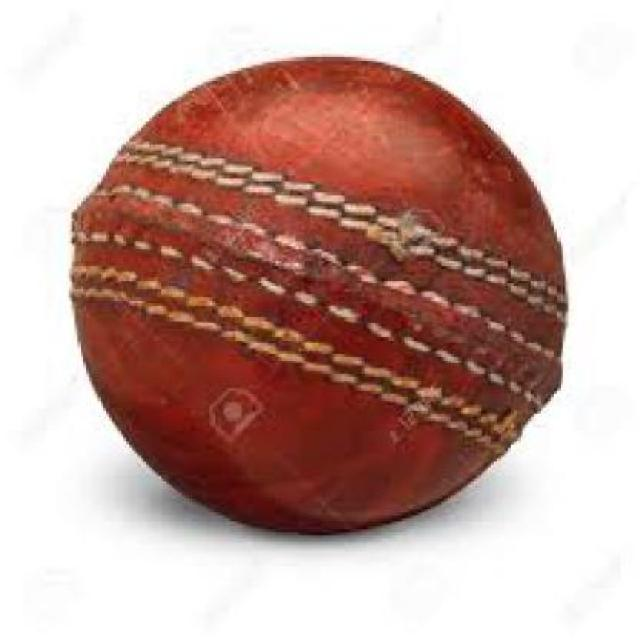ball: (49, 28, 584, 542)
